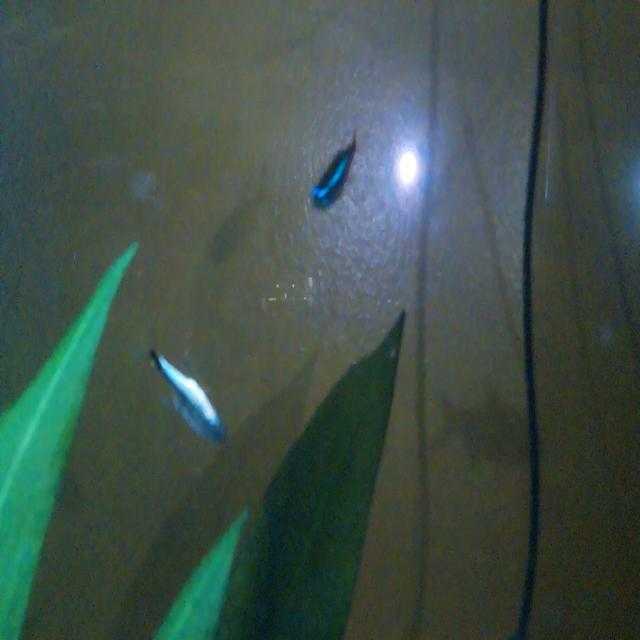fish: (143, 332, 232, 454), (291, 125, 365, 216)
